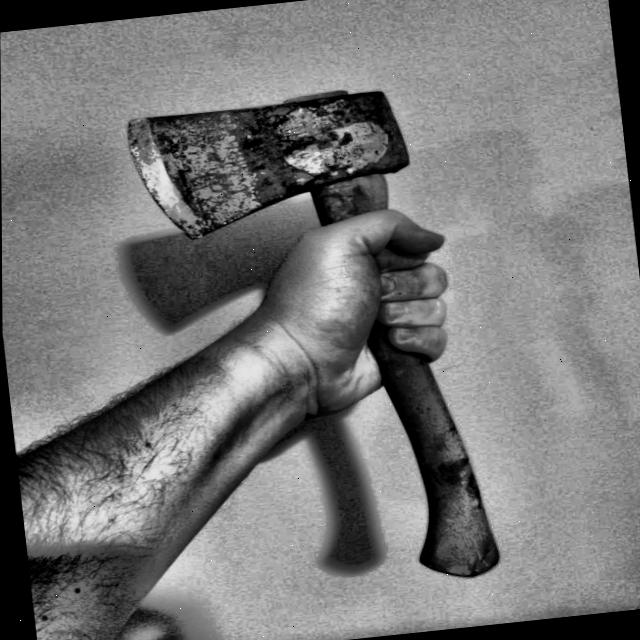kapak: (102, 70, 516, 595)
